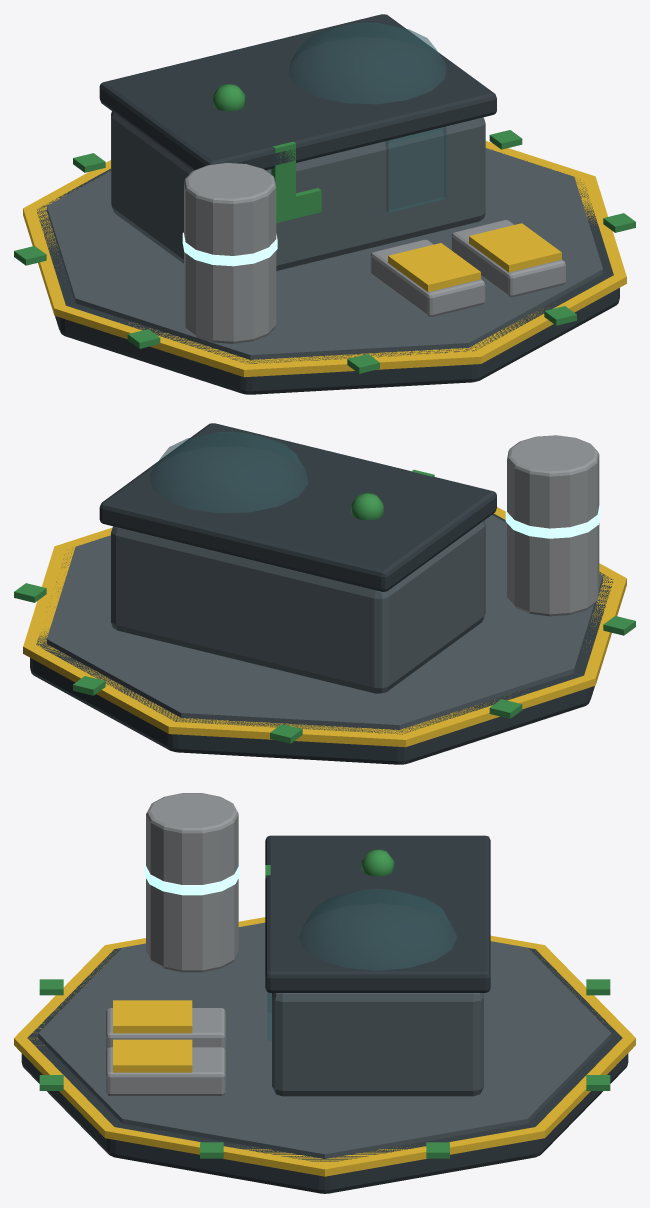
The model's file is med_bay.fbx.
3 views of the same model, one above another, from view 1: azimuth 30°, elevation 25°; view 2: azimuth 150°, elevation 25°; view 3: azimuth 270°, elevation 25° (orthographic).
Visible parts, largest first — view 1: med_bay, ANIM_pulse_0.8__beacon; view 2: med_bay, ANIM_pulse_0.8__beacon; view 3: med_bay, ANIM_pulse_0.8__beacon.
Part boxes in pixels (<box>): med_bay: <box>14,14,635,394</box>; ANIM_pulse_0.8__beacon: <box>213,84,245,111</box>; med_bay: <box>14,423,635,764</box>; ANIM_pulse_0.8__beacon: <box>351,493,383,520</box>; med_bay: <box>14,793,635,1193</box>; ANIM_pulse_0.8__beacon: <box>361,849,394,876</box>.
Bounding box in the file's own units: 4.69 × 1.67 × 4.69.
